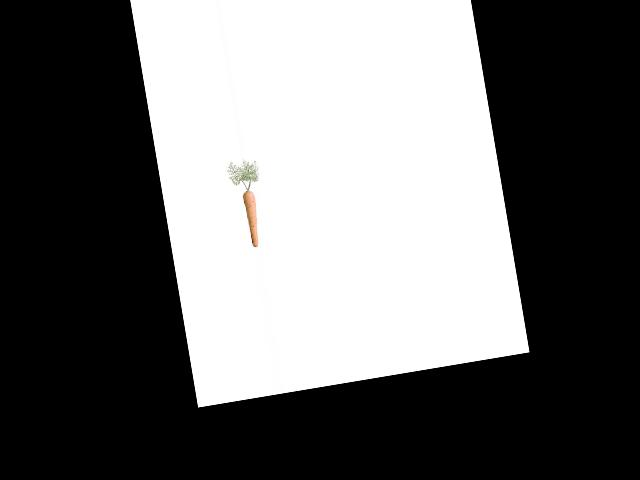carrot: (237, 184, 265, 250)
